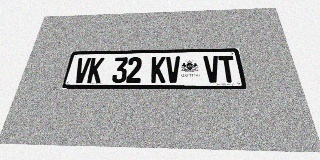2: (126, 57, 142, 83)
3: (111, 57, 128, 83)
K: (86, 58, 105, 83), (151, 56, 165, 83)
T: (218, 55, 237, 83)
V: (203, 56, 221, 83), (72, 58, 91, 83), (166, 56, 181, 83)
